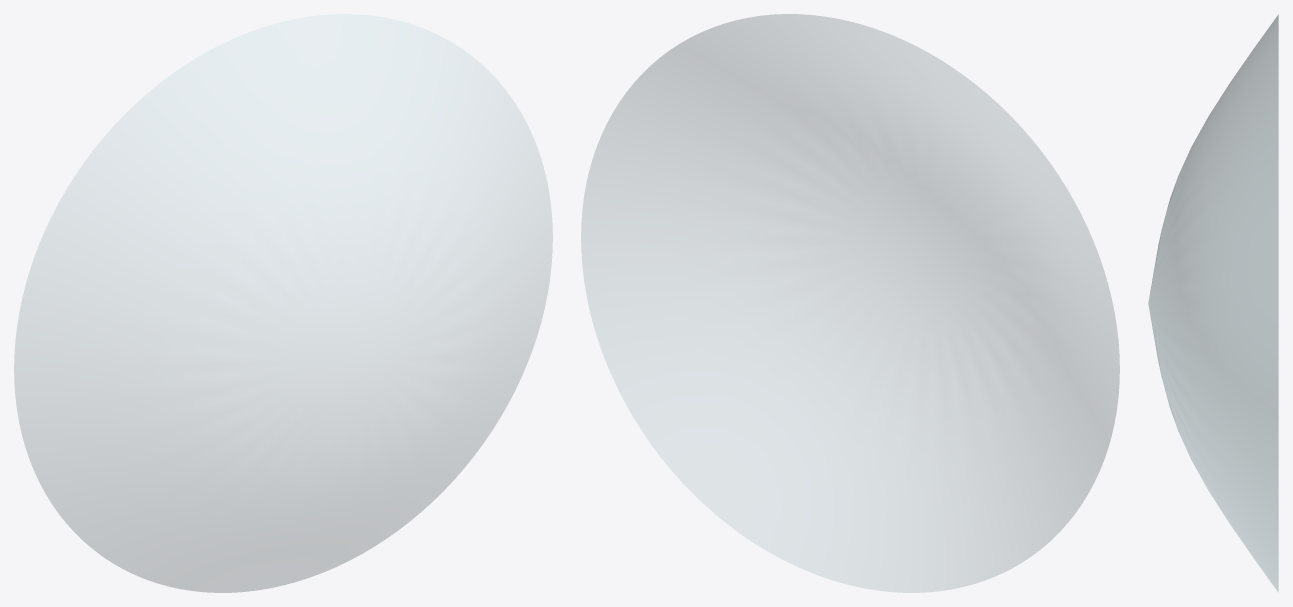
Rendered from cornee.glb.
3 renders of one model, left to right at view 1: azimuth 30°, elevation 25°; view 2: azimuth 150°, elevation 25°; view 3: azimuth 270°, elevation 25°, orthographic. The views are drawn at different scales.
Visible parts, largest first — view 1: Sphere.014; view 2: Sphere.014; view 3: Sphere.014.
Boxes of the visible parts, x1,y1,x2,y2 form: Sphere.014: (14, 14, 552, 592); Sphere.014: (581, 14, 1119, 592); Sphere.014: (1148, 14, 1278, 592).
Size of the model in its own units: 0.7533 by 0.7533 by 0.1697.
